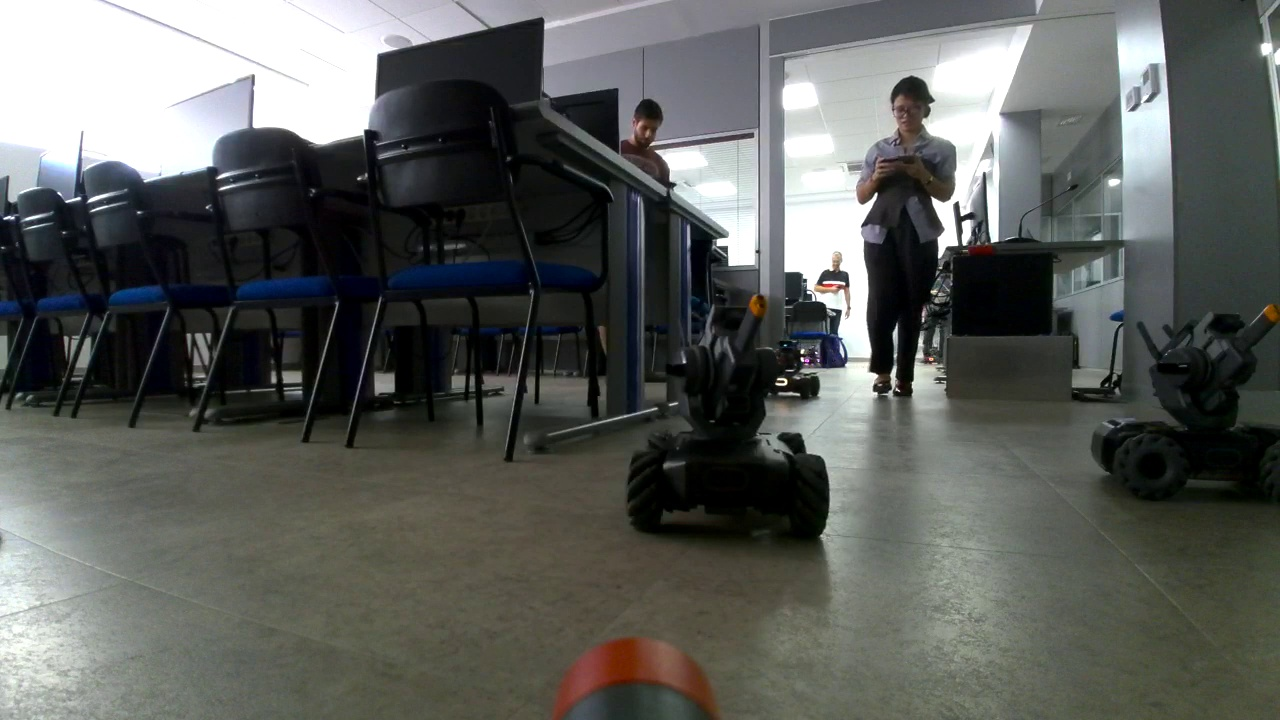robot: (626, 294, 829, 533), (1089, 300, 1280, 500), (756, 337, 821, 397), (801, 345, 821, 366)
